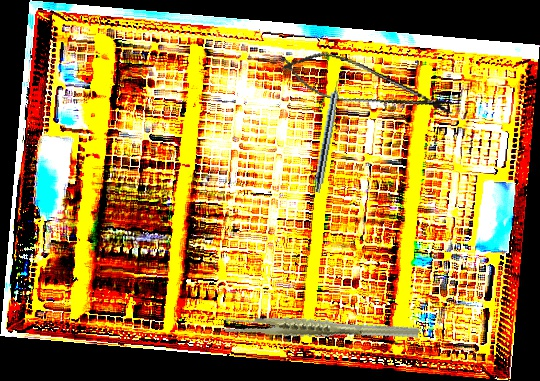Handpiece: (312, 71, 346, 194)
Micro Scissor: (275, 42, 460, 129)
Tissue Forceps: (221, 283, 421, 375)
